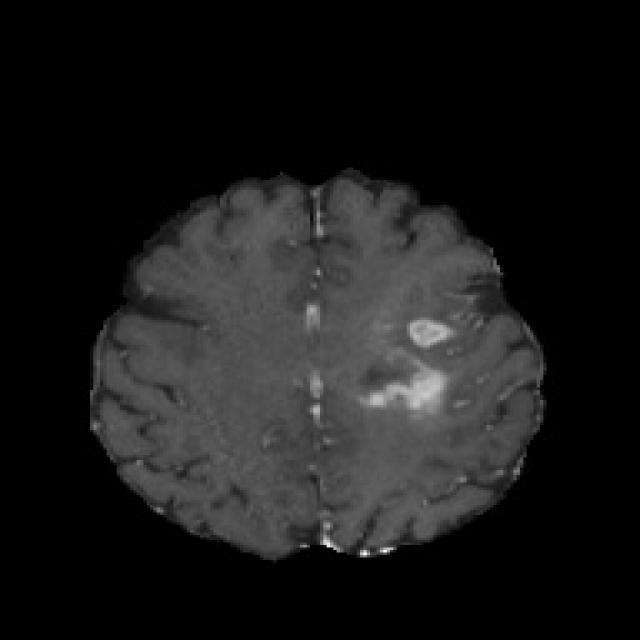positive: (360, 346, 447, 412), (402, 315, 458, 350)
